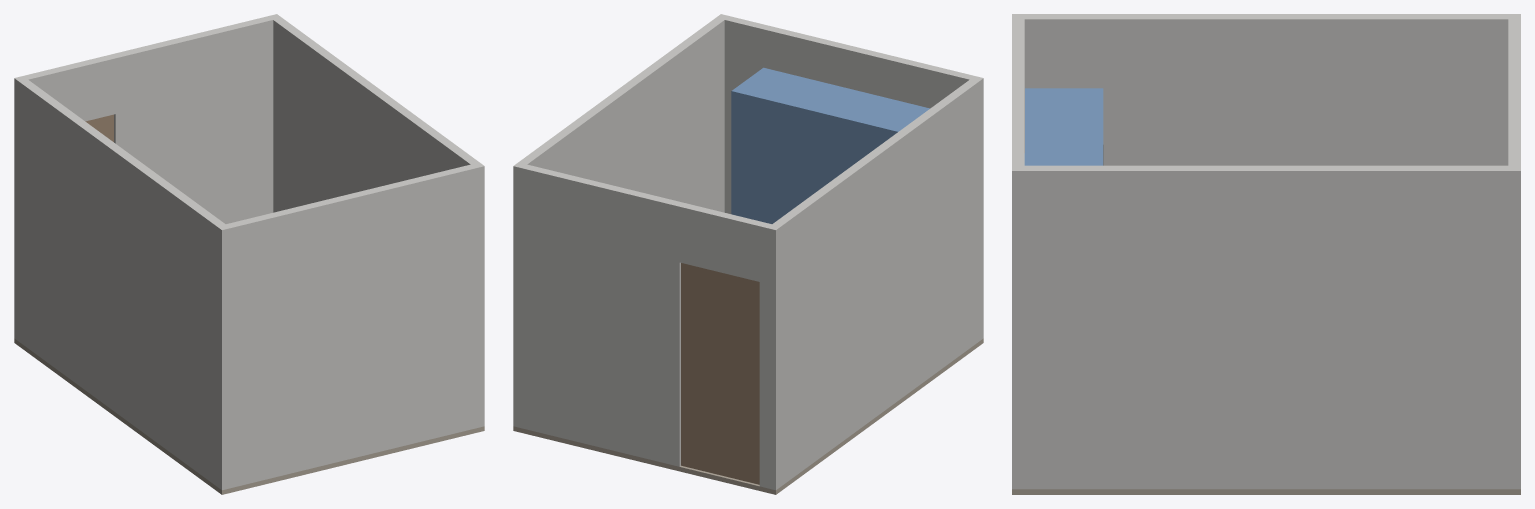
Rendered from room_015.glb.
3 views of the same model, side by side, from view 1: azimuth 30°, elevation 25°; view 2: azimuth 150°, elevation 25°; view 3: azimuth 270°, elevation 25° (orthographic). The views are drawn at different scales.
Parts seen in each view (by area): view 1: shell_wall_0_s0, shell_wall_3_s0, shell_wall_2_s0, shell_wall_1_s0, shell_wall_2_s1, shell_floor, shell_wall_2_s2; view 2: shell_wall_3_s0, shell_wall_2_s0, shell_wall_1_s0, obj_003, shell_wall_2_door, shell_wall_0_s0, shell_wall_2_s2, shell_wall_2_s1, shell_floor; view 3: shell_wall_1_s0, shell_wall_3_s0, shell_wall_0_s0, obj_003, shell_wall_2_s0, shell_floor, shell_wall_2_s1.
Boxes of the visible parts, left/top/right/bottom form: shell_wall_0_s0: left=217, top=162, right=484, bottom=489; shell_wall_3_s0: left=14, top=78, right=230, bottom=489; shell_wall_2_s0: left=111, top=14, right=280, bottom=223; shell_wall_1_s0: left=268, top=14, right=484, bottom=427; shell_wall_2_s1: left=31, top=54, right=115, bottom=121; shell_floor: left=14, top=338, right=484, bottom=494; shell_wall_2_s2: left=14, top=74, right=35, bottom=341; shell_wall_3_s0: left=767, top=76, right=983, bottom=490; shell_wall_2_s0: left=513, top=162, right=683, bottom=466; shell_wall_1_s0: left=513, top=14, right=727, bottom=428; obj_003: left=731, top=67, right=929, bottom=223; shell_wall_2_door: left=681, top=263, right=759, bottom=484; shell_wall_0_s0: left=716, top=14, right=983, bottom=339; shell_wall_2_s2: left=759, top=222, right=780, bottom=489; shell_wall_2_s1: left=679, top=203, right=764, bottom=281; shell_floor: left=513, top=338, right=983, bottom=494; shell_wall_1_s0: left=1012, top=165, right=1520, bottom=489; shell_wall_3_s0: left=1012, top=14, right=1520, bottom=165; shell_wall_0_s0: left=1012, top=14, right=1024, bottom=489; obj_003: left=1024, top=88, right=1103, bottom=165; shell_wall_2_s0: left=1508, top=71, right=1520, bottom=489; shell_floor: left=1012, top=489, right=1520, bottom=494; shell_wall_2_s1: left=1508, top=23, right=1520, bottom=71.
Size of the model in its own units: 2.96 by 2.85 by 4.05.
